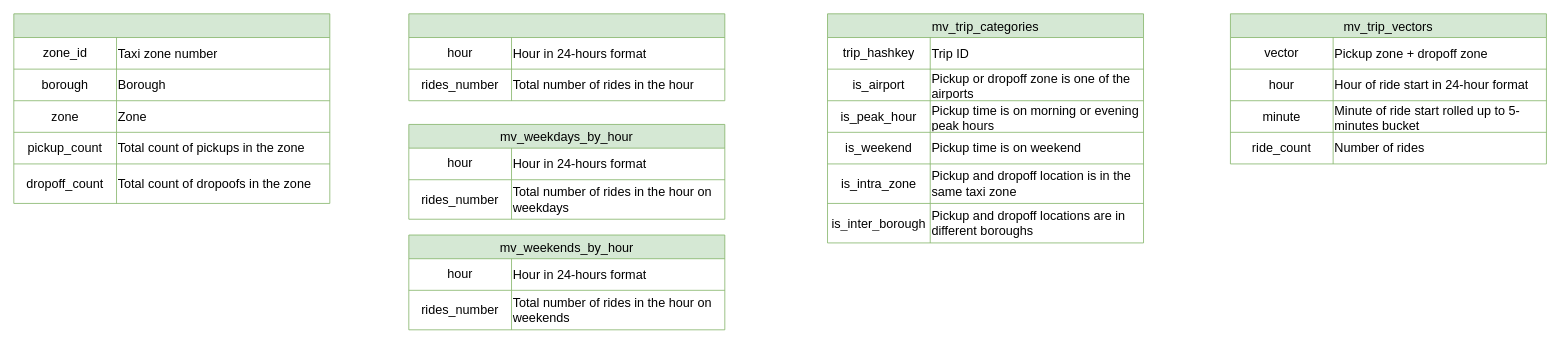
This 1560x344 diagram has some shape labels left out. Here are the shapes that lost their labels. From the top down, the box of each, then its label:
(408, 13, 725, 101): mv_rides_by_hour
(13, 13, 330, 203): mv_zones_counts
